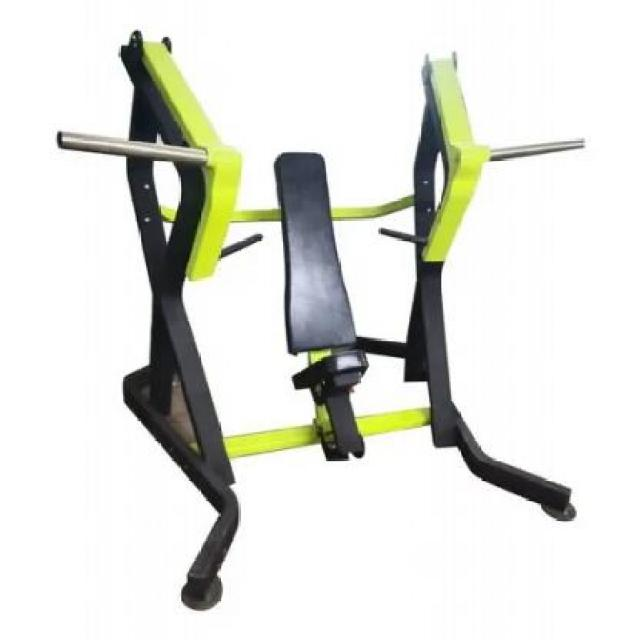shoulder press machine: (57, 32, 583, 608)
